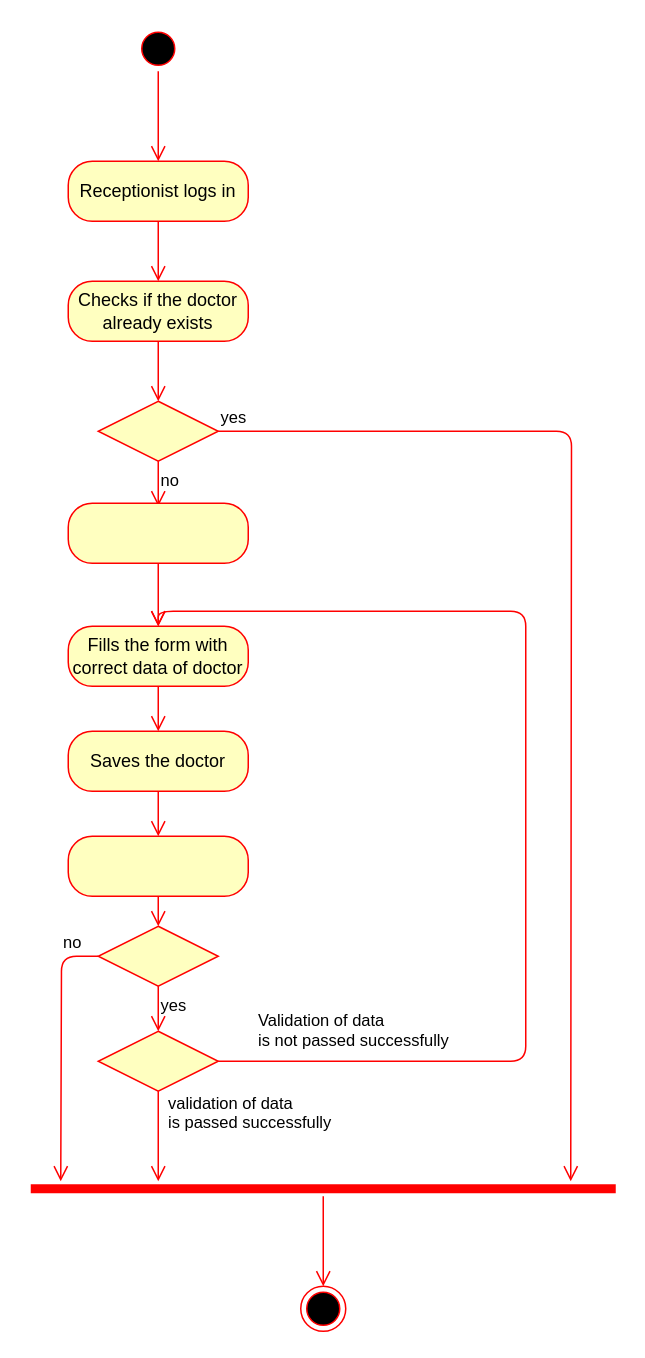
Some shapes in this 645 by 1358 pixel diagram are drawn without their labels. Each missing label, with the centre of its shape:
Clicks "Add Doctor": (x=157, y=532)
Confirms or not action through a pop up window: (x=157, y=865)
